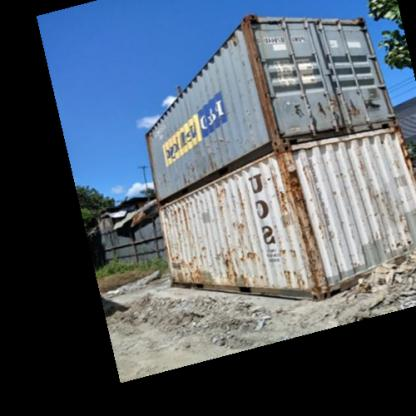Damage: (272, 153, 332, 289), (369, 179, 414, 251), (215, 245, 265, 285), (162, 202, 206, 246), (176, 138, 220, 180), (166, 251, 212, 285), (240, 106, 260, 152), (231, 192, 247, 242), (212, 187, 228, 215), (156, 169, 171, 186), (236, 57, 249, 68)
